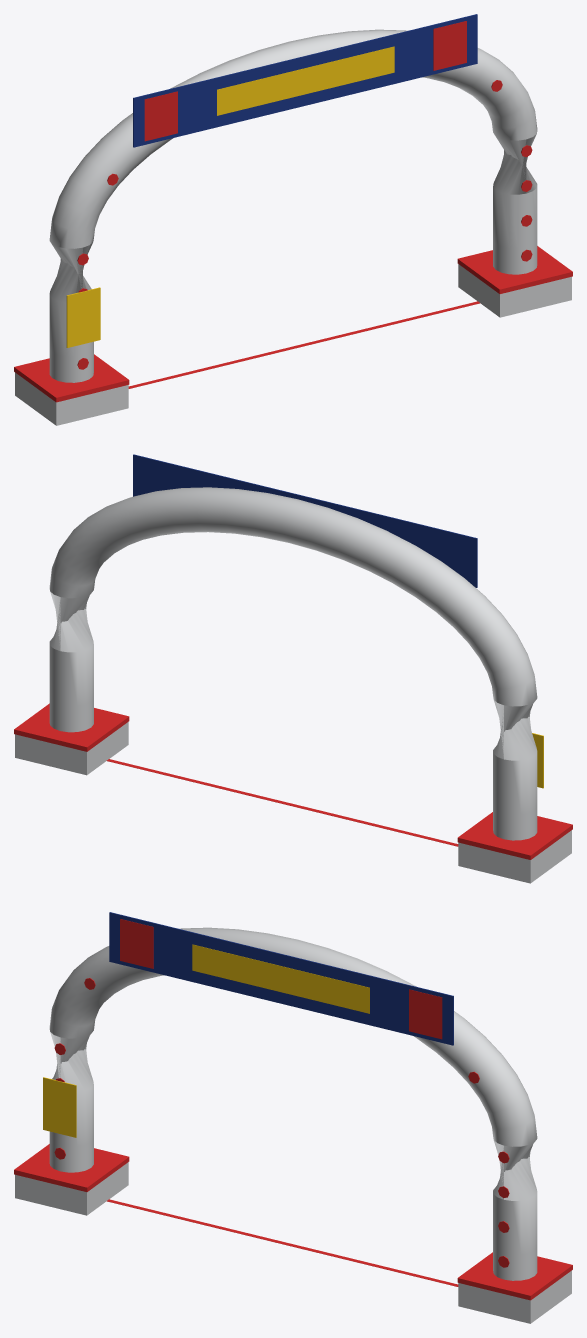
Rendered from arch_kom.glb.
3 views of the same model, one above another, from view 1: azimuth 30°, elevation 25°; view 2: azimuth 150°, elevation 25°; view 3: azimuth 330°, elevation 25° (orthographic).
Parts seen in each view (by area): view 1: Arch_KOM; view 2: Arch_KOM; view 3: Arch_KOM.
Boxes of the visible parts, <box> form: Arch_KOM: <box>14,14,572,425</box>; Arch_KOM: <box>14,454,572,883</box>; Arch_KOM: <box>14,912,572,1323</box>.
Size of the model in its own units: 9.32 by 5.25 by 1.32.
